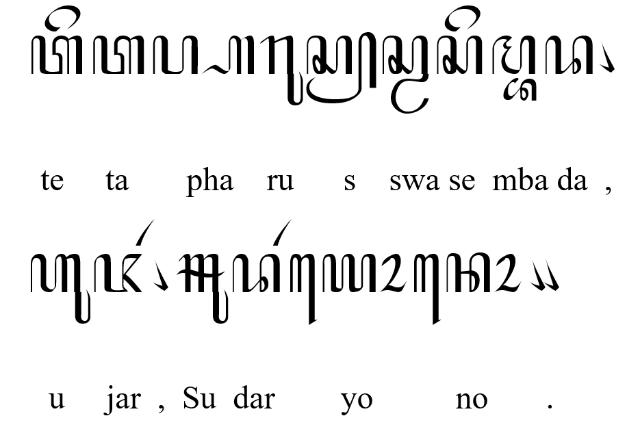-s: (306, 31, 378, 105)
Su: (176, 252, 228, 324)
_b: (503, 77, 537, 101)
_h: (202, 34, 256, 75)
_r1: (135, 218, 155, 246), (272, 218, 292, 246)
d: (544, 35, 594, 75), (232, 253, 280, 293)
e: (444, 4, 481, 32), (44, 4, 80, 32)
e1: (413, 252, 441, 326), (289, 253, 317, 325)
hu: (30, 253, 91, 324)
j: (94, 253, 142, 293)
kom: (599, 40, 615, 72), (152, 259, 168, 291), (530, 259, 546, 291), (543, 259, 559, 291)
m: (490, 34, 536, 74)
n: (446, 252, 490, 294)
o: (492, 253, 522, 293), (379, 252, 407, 294)
p: (152, 34, 198, 74)
ru: (260, 34, 304, 106)
s: (435, 35, 483, 75)
sw: (382, 34, 430, 114)
t: (31, 35, 84, 75), (93, 34, 145, 74)
y: (322, 254, 376, 294)
